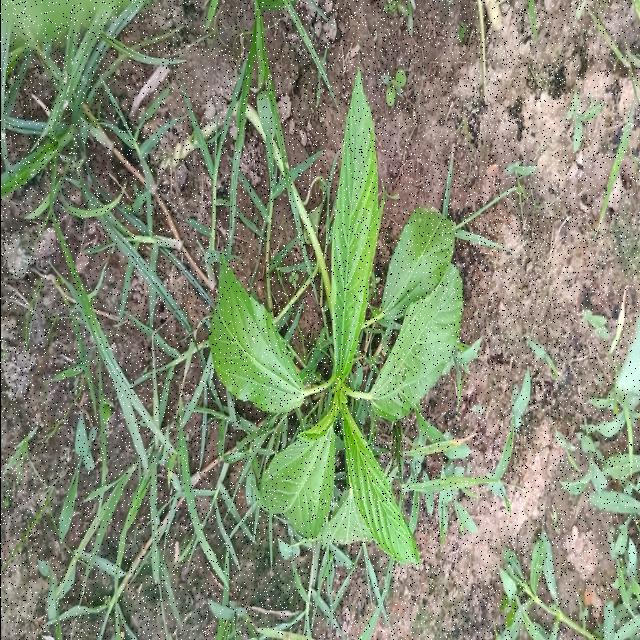plant: (208, 74, 461, 563)
